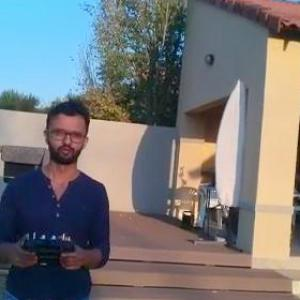follow: (0, 94, 119, 299)
